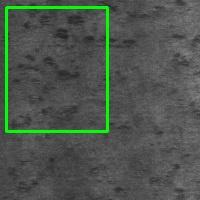rolled-in_scale: (6, 7, 107, 131)
